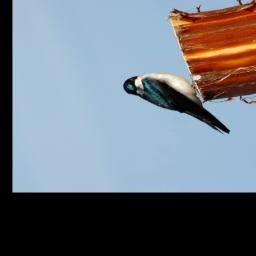Swallow: (119, 63, 233, 150)
